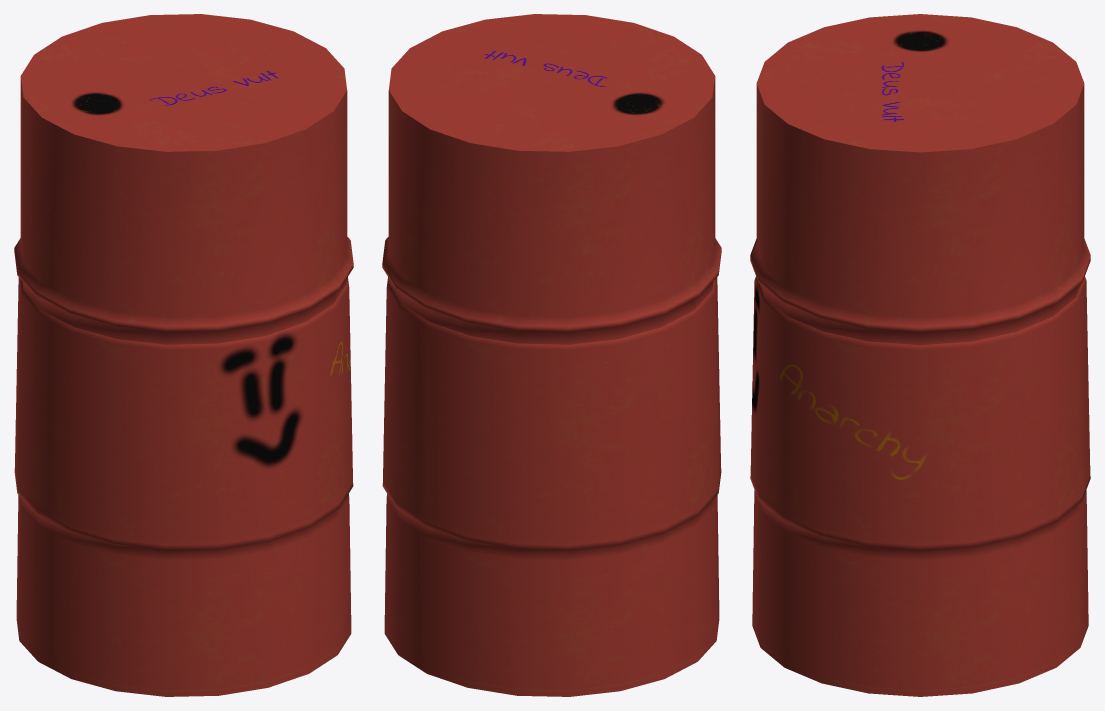
File: Barrel.fbx
3 views of the same model, side by side, from view 1: azimuth 30°, elevation 25°; view 2: azimuth 150°, elevation 25°; view 3: azimuth 270°, elevation 25° (orthographic).
Parts seen in each view (by area): view 1: Barrel_low; view 2: Barrel_low; view 3: Barrel_low.
Part boxes in pixels (bbox=[...]): Barrel_low: bbox=[14, 14, 353, 696]; Barrel_low: bbox=[382, 14, 721, 696]; Barrel_low: bbox=[750, 14, 1090, 696].
Bounding box in the file's own units: 60.67 × 107 × 60.67.
